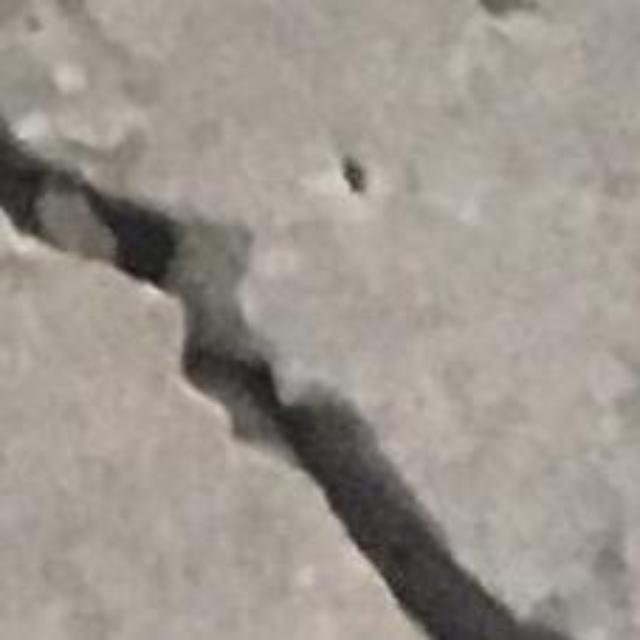crack: (0, 127, 566, 639)
